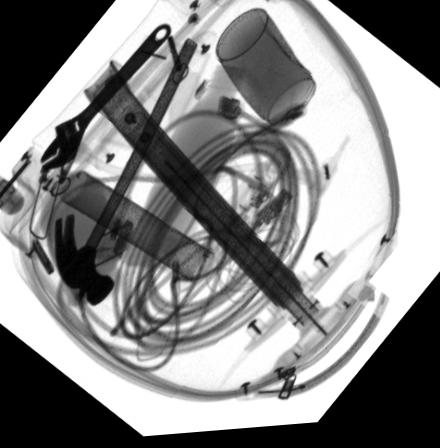Hammer: (54, 38, 202, 309)
Wrench: (39, 25, 170, 171)
